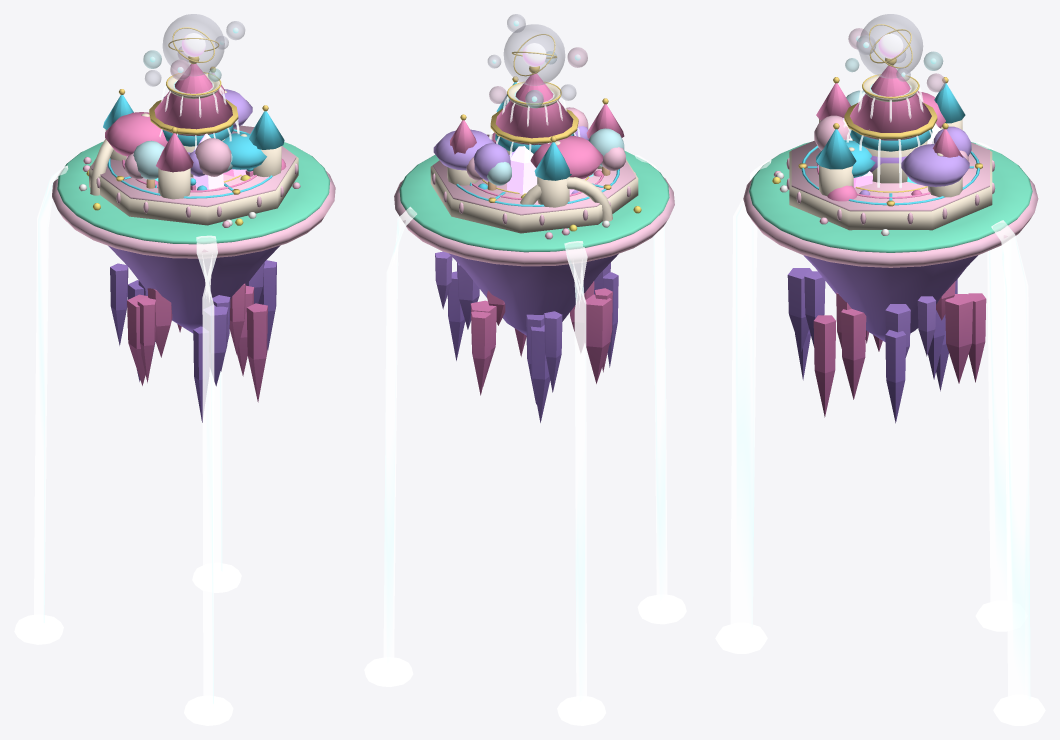
File: env_bubblegum.glb
3 renders of one model, left to right at view 1: azimuth 30°, elevation 25°; view 2: azimuth 150°, elevation 25°; view 3: azimuth 270°, elevation 25°, orthographic. The views are drawn at different scales.
Visible parts, largest first — view 1: M_Islet_a__is_grass, M_Islet_b__is_rock, M_Islet_b__is_water, M_Islet_c__is_water, M_Islet_a__is_rim, M_Islet_b__is_pk, M_Plaza__p_base, M_Fountain__f_glass, M_Plaza__p_top, M_Islet_a__is_rock2, M_Islet_a__is_rock, M_Islet_a__is_water (+16 smaller); view 2: M_Islet_a__is_grass, M_Islet_b__is_rock, M_Islet_c__is_water, M_Islet_a__is_water, M_Islet_b__is_water, M_Islet_a__is_rim, M_Islet_b__is_pk, M_Fountain__f_glass, M_Plaza__p_base, M_Islet_b__is_rock2, M_Plaza__p_top, M_Islet_c__is_rock (+18 smaller); view 3: M_Islet_a__is_water, M_Islet_b__is_water, M_Islet_a__is_grass, M_Islet_c__is_water, M_Islet_b__is_rock, M_Islet_a__is_rim, M_Plaza__p_top, M_Islet_b__is_pk, M_Plaza__p_base, M_Islet_a__is_rock2, M_Fountain__f_glass, M_Islet_c__is_rock (+17 smaller).
Boxes of the visible parts, x1,y1,x2,y2 form: M_Islet_a__is_grass: [57, 141, 330, 244]; M_Islet_b__is_rock: [108, 245, 280, 371]; M_Islet_b__is_water: [196, 235, 217, 703]; M_Islet_c__is_water: [34, 165, 68, 622]; M_Islet_a__is_rim: [52, 170, 335, 258]; M_Islet_b__is_pk: [154, 64, 232, 172]; M_Plaza__p_base: [89, 156, 298, 225]; M_Fountain__f_glass: [145, 14, 245, 86]; M_Plaza__p_top: [91, 125, 296, 207]; M_Islet_a__is_rock2: [147, 288, 267, 402]; M_Islet_a__is_rock: [138, 260, 276, 422]; M_Islet_a__is_water: [211, 368, 222, 570]; M_Islet_a__is_grass: [399, 150, 669, 252]; M_Islet_b__is_rock: [435, 251, 618, 392]; M_Islet_c__is_water: [564, 241, 587, 703]; M_Islet_a__is_water: [383, 206, 416, 664]; M_Islet_b__is_water: [634, 155, 667, 602]; M_Islet_a__is_rim: [394, 177, 674, 266]; M_Islet_b__is_pk: [450, 73, 624, 154]; M_Fountain__f_glass: [487, 14, 576, 100]; M_Plaza__p_base: [430, 159, 638, 233]; M_Islet_b__is_rock2: [471, 294, 611, 395]; M_Plaza__p_top: [433, 134, 635, 215]; M_Islet_c__is_rock: [457, 262, 610, 422]; M_Islet_a__is_water: [991, 220, 1030, 699]; M_Islet_b__is_water: [730, 160, 771, 627]; M_Islet_a__is_grass: [749, 141, 1032, 252]; M_Islet_c__is_water: [975, 142, 1011, 605]; M_Islet_b__is_rock: [803, 255, 978, 356]; M_Islet_a__is_rim: [743, 179, 1038, 267]; M_Plaza__p_top: [791, 140, 989, 211]; M_Islet_b__is_pk: [816, 65, 963, 157]; M_Plaza__p_base: [789, 151, 992, 230]; M_Islet_a__is_rock2: [813, 294, 972, 417]; M_Fountain__f_glass: [856, 14, 923, 81]; M_Islet_c__is_rock: [787, 268, 948, 391].
Bounding box in the file's own units: 14.56 × 36.05 × 16.31.
